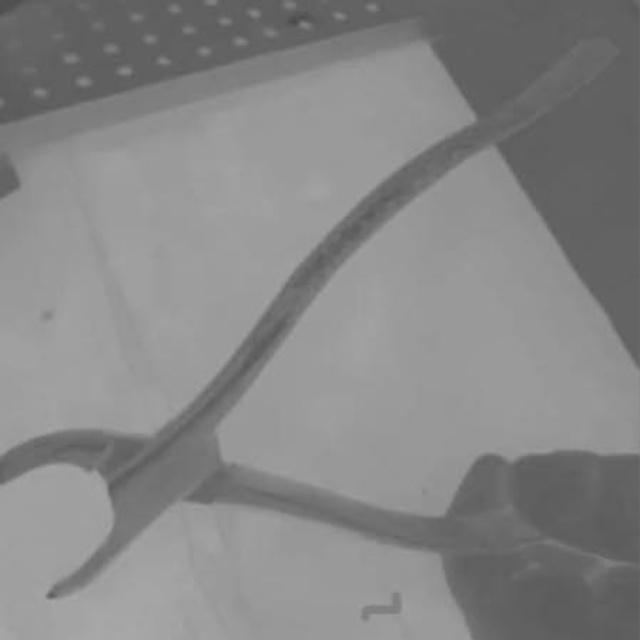forceps: (0, 38, 639, 639)
